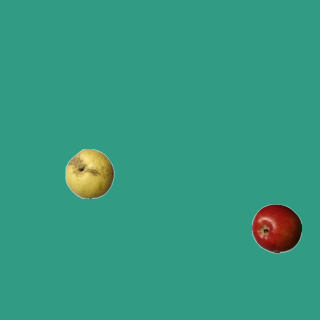Apple Braeburn: (251, 203, 301, 253)
Apple Golden 1: (64, 148, 114, 198)
